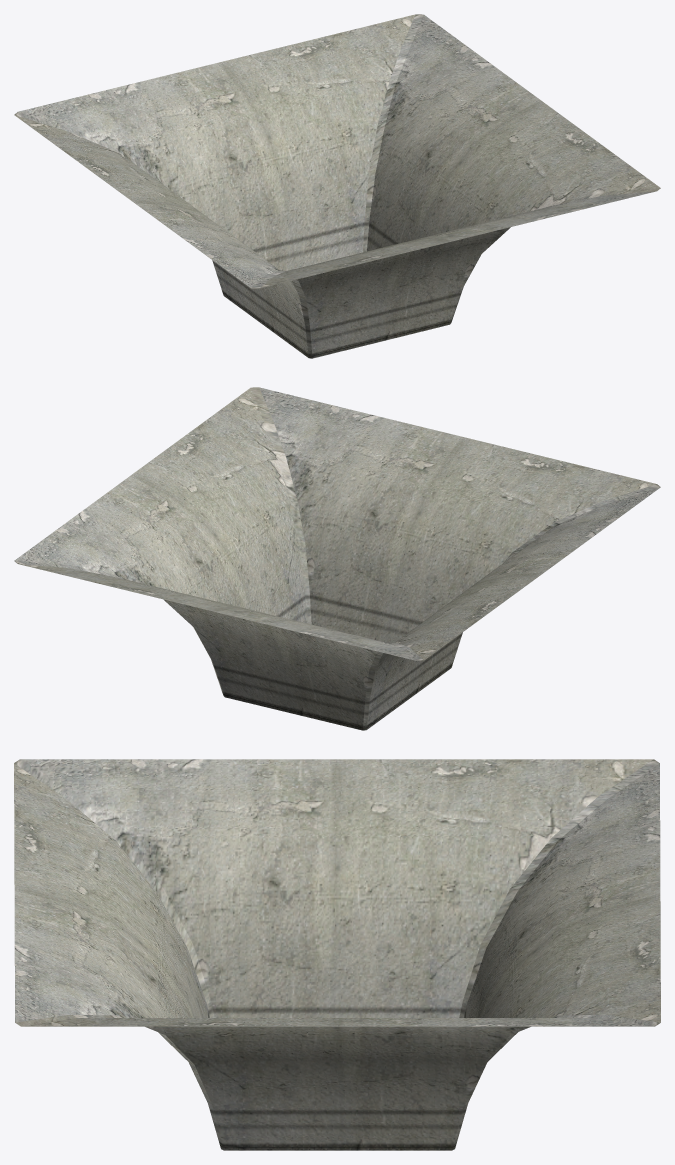
Rendered from urban_damaged_deco_pillar_ceiling.dae.
3 renders of one model, top to bottom at view 1: azimuth 30°, elevation 25°; view 2: azimuth 150°, elevation 25°; view 3: azimuth 270°, elevation 25°, orthographic. The views are drawn at different scales.
Visible parts, largest first — view 1: polySurface806; view 2: polySurface806; view 3: polySurface806.
Part boxes in pixels (x1=…): polySurface806: x1=14, y1=14, x2=660, y2=358; polySurface806: x1=14, y1=387, x2=660, y2=730; polySurface806: x1=14, y1=759, x2=660, y2=1150.
Size of the model in its own units: 2.04 by 0.7499 by 2.08.
